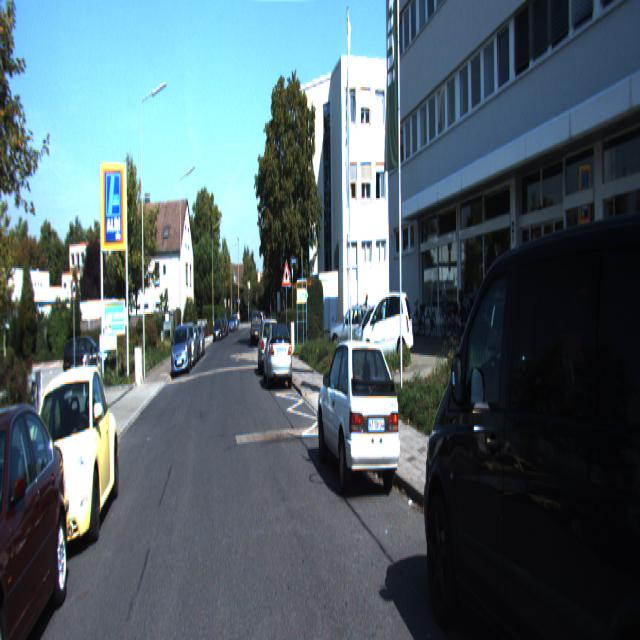Car: (418, 172, 639, 638), (9, 352, 120, 564), (313, 330, 402, 503), (357, 285, 414, 365), (327, 301, 378, 358), (262, 319, 292, 389), (257, 315, 280, 376), (170, 324, 192, 376), (248, 309, 260, 346)
